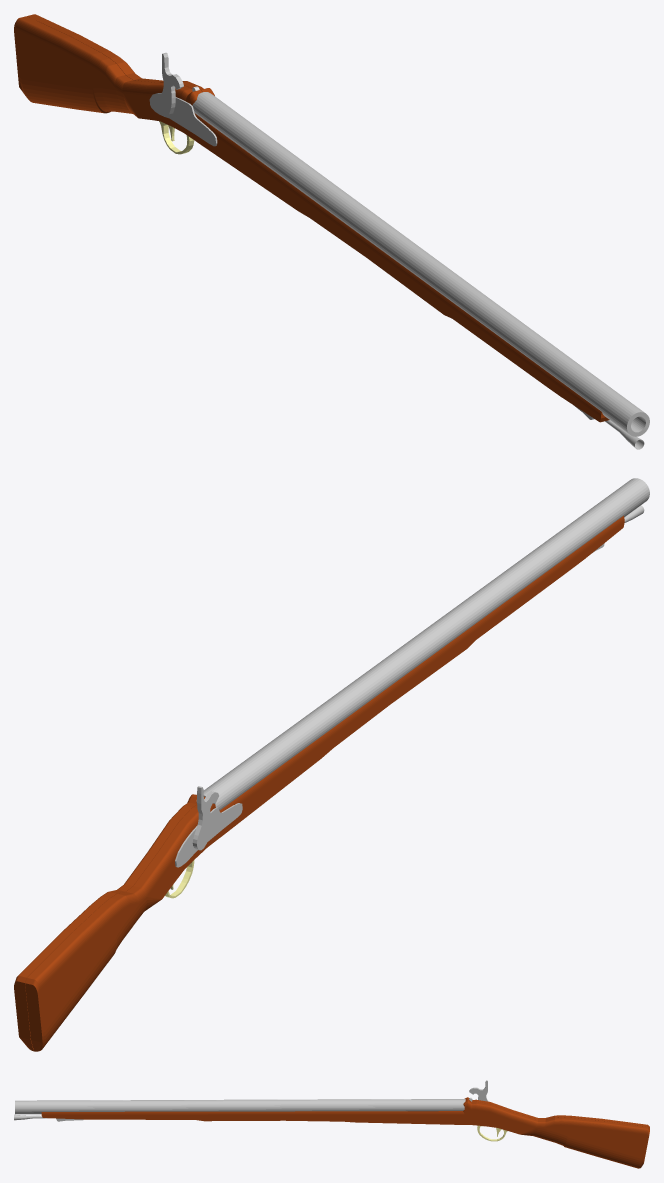
The model's file is musket.glb.
The picture shows the model from 3 angles, top to bottom: view 1: azimuth 30°, elevation 25°; view 2: azimuth 150°, elevation 25°; view 3: azimuth 270°, elevation 25°; orthographic projection. The views are drawn at different scales.
Parts seen in each view (by area): view 1: Main, Barrel, Plate, Hammer; view 2: Main, Barrel, Plate, Hammer; view 3: Main, Barrel, Ramrod, Hammer.
Part boxes in pixels (left/top/right/bottom): Main: left=14, top=14, right=609, bottom=422; Barrel: left=192, top=92, right=649, bottom=436; Plate: left=149, top=93, right=217, bottom=146; Hammer: left=157, top=52, right=183, bottom=116; Main: left=14, top=515, right=624, bottom=1051; Barrel: left=203, top=478, right=649, bottom=810; Plate: left=175, top=803, right=242, bottom=867; Hammer: left=192, top=786, right=218, bottom=850; Main: left=41, top=1097, right=649, bottom=1168; Barrel: left=15, top=1099, right=465, bottom=1114; Ramrod: left=14, top=1114, right=83, bottom=1121; Hammer: left=469, top=1080, right=488, bottom=1101.
Size of the model in its own units: 0.1468 by 0.6947 by 4.82.
